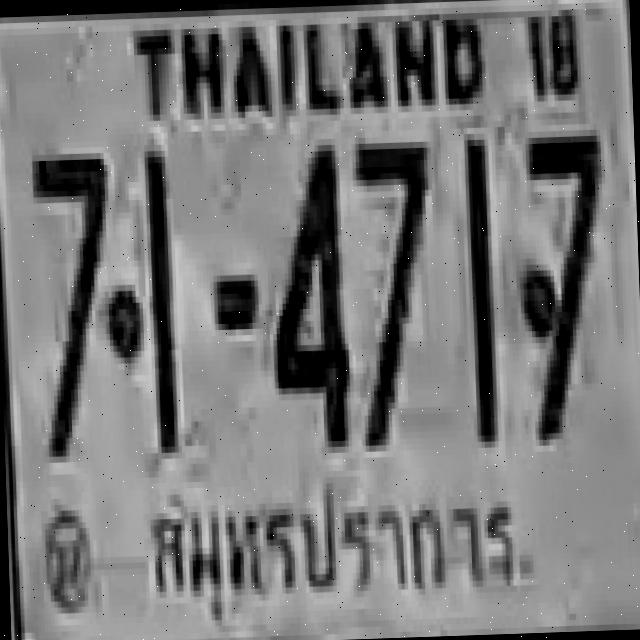1: (143, 138, 178, 453), (462, 136, 496, 445)
4: (266, 138, 348, 442)
7: (514, 126, 606, 437), (28, 146, 116, 457), (349, 136, 435, 446)
SamutPrakan: (137, 468, 527, 610)
